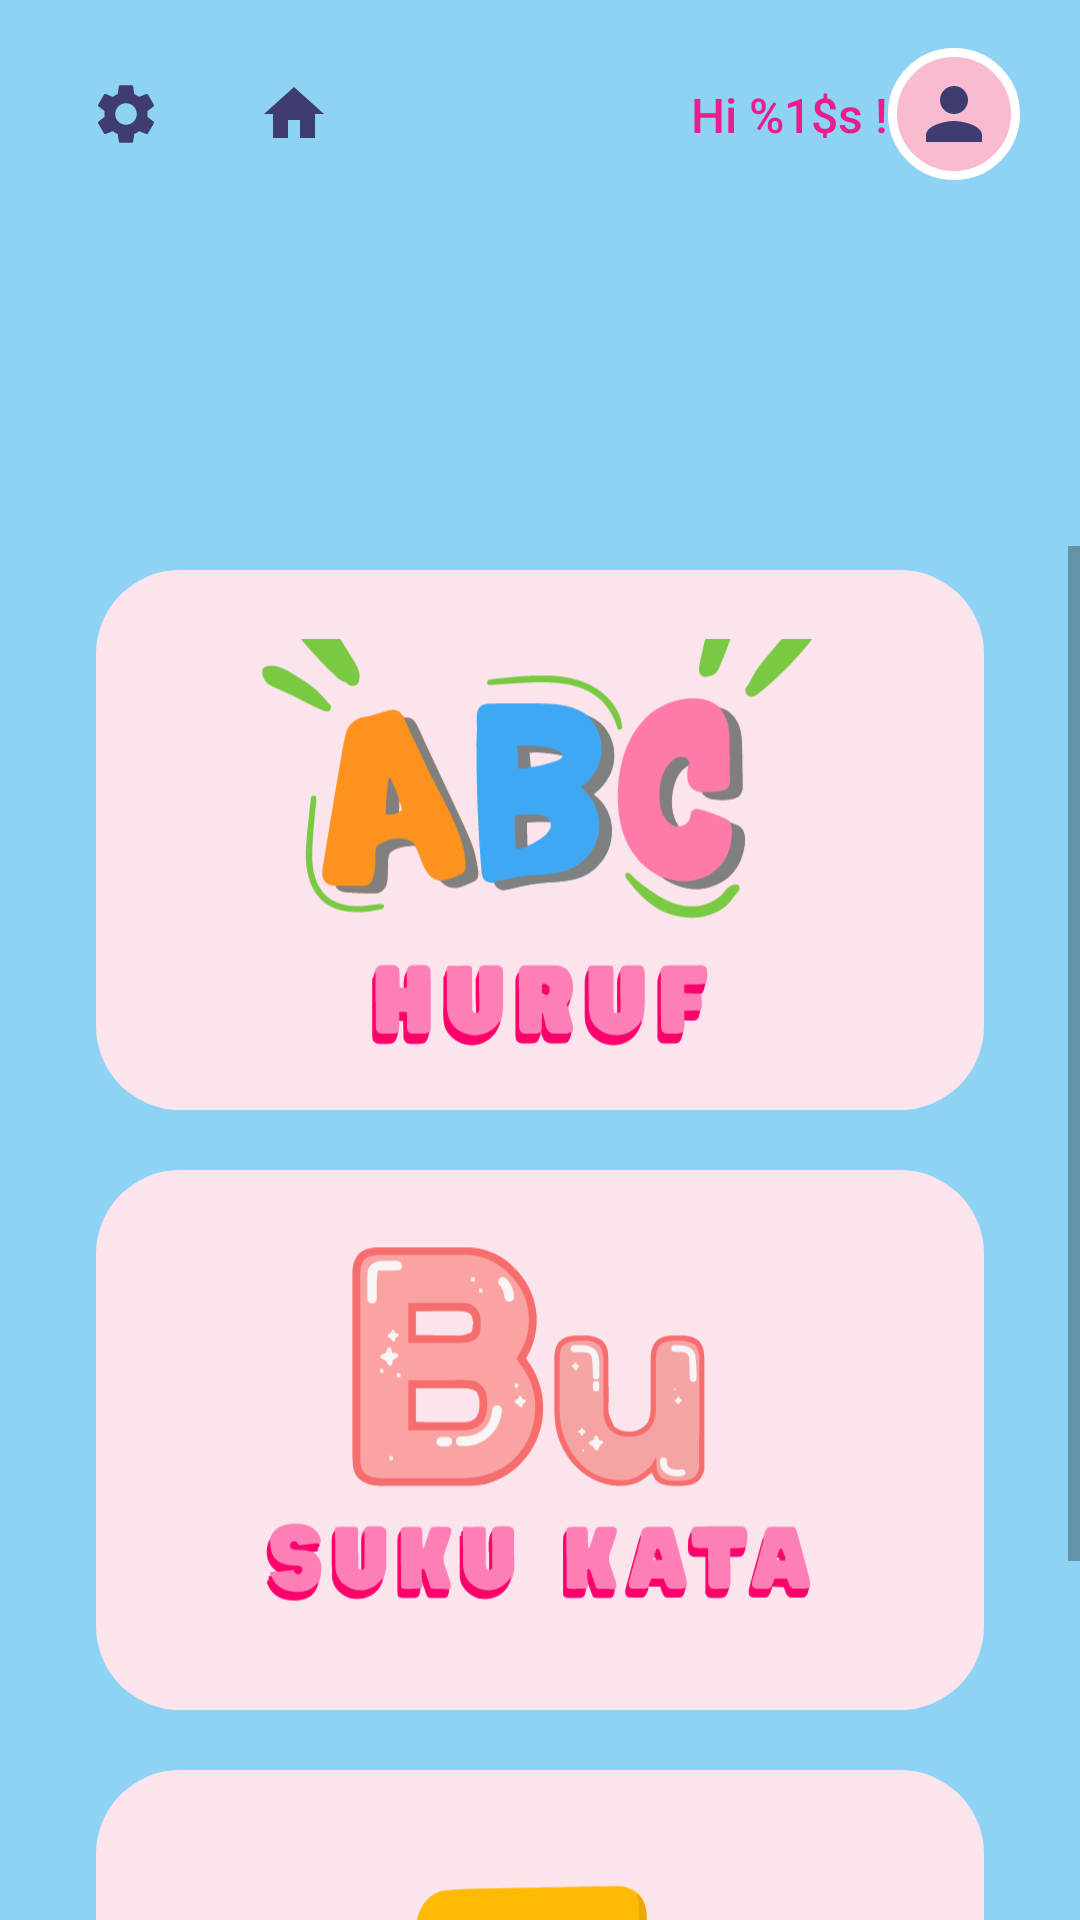

Screen size 1080×1920. Icon name, then its box in pixels as [x1=x1, y1=y1, x2=x2, y2=y2]:
Pengaturan: [x1=98, y1=85, x2=154, y2=143]
person: [x1=888, y1=48, x2=1020, y2=180]
